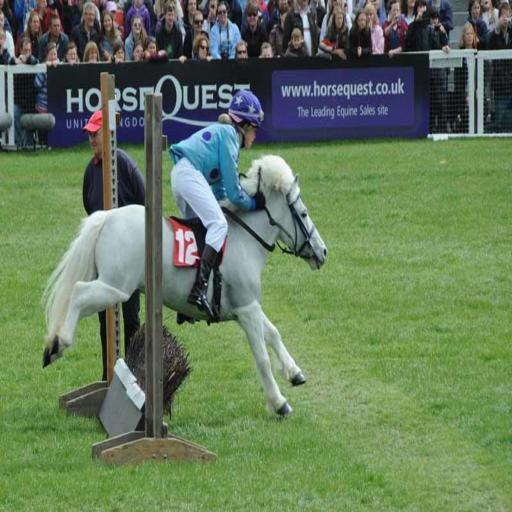horse: (42, 152, 329, 418)
